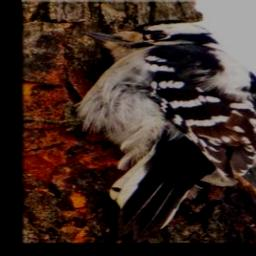Woodpecker: (25, 15, 256, 243)
